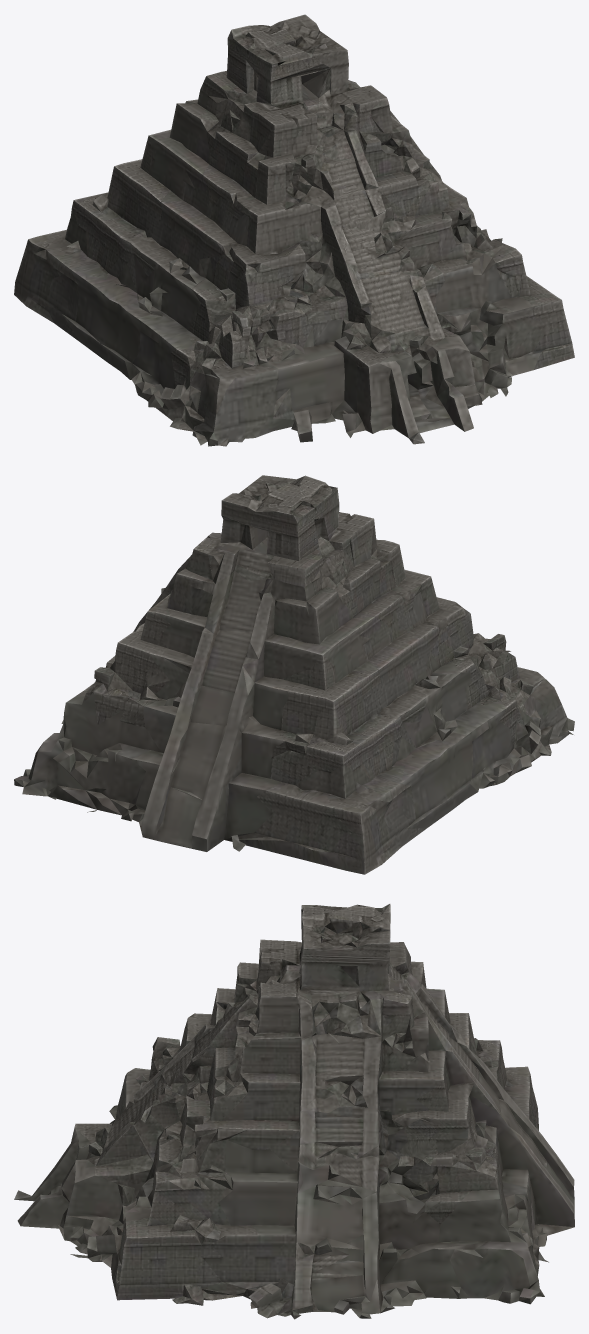
File: pyramid_destroyed.glb
The picture shows the model from 3 angles, top to bottom: view 1: azimuth 30°, elevation 25°; view 2: azimuth 150°, elevation 25°; view 3: azimuth 270°, elevation 25°; orthographic projection. The views are drawn at different scales.
Parts seen in each view (by area): view 1: output_unwrapped; view 2: output_unwrapped; view 3: output_unwrapped.
Boxes of the visible parts, bbox=[...] form: output_unwrapped: bbox=[14, 14, 574, 446]; output_unwrapped: bbox=[14, 475, 574, 874]; output_unwrapped: bbox=[14, 904, 574, 1319].
Bounding box in the file's own units: 1.67 × 1.1 × 1.9.
1 material, 1 textured.
